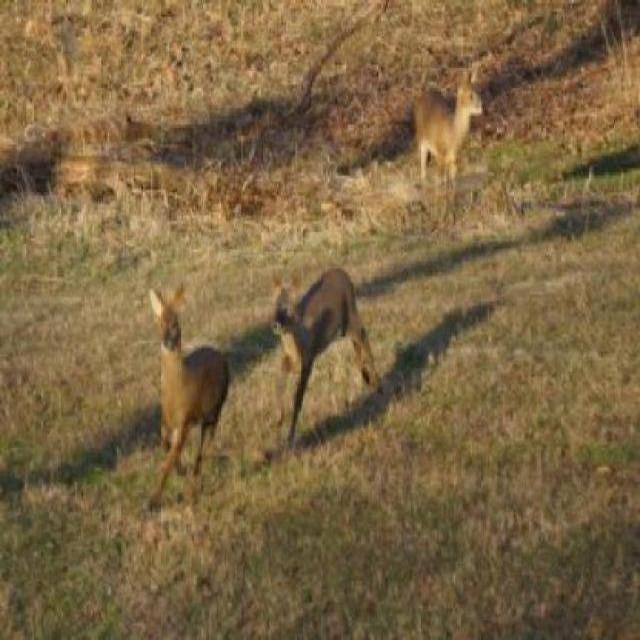deer: (266, 263, 380, 465), (144, 272, 236, 499), (400, 50, 482, 226)
